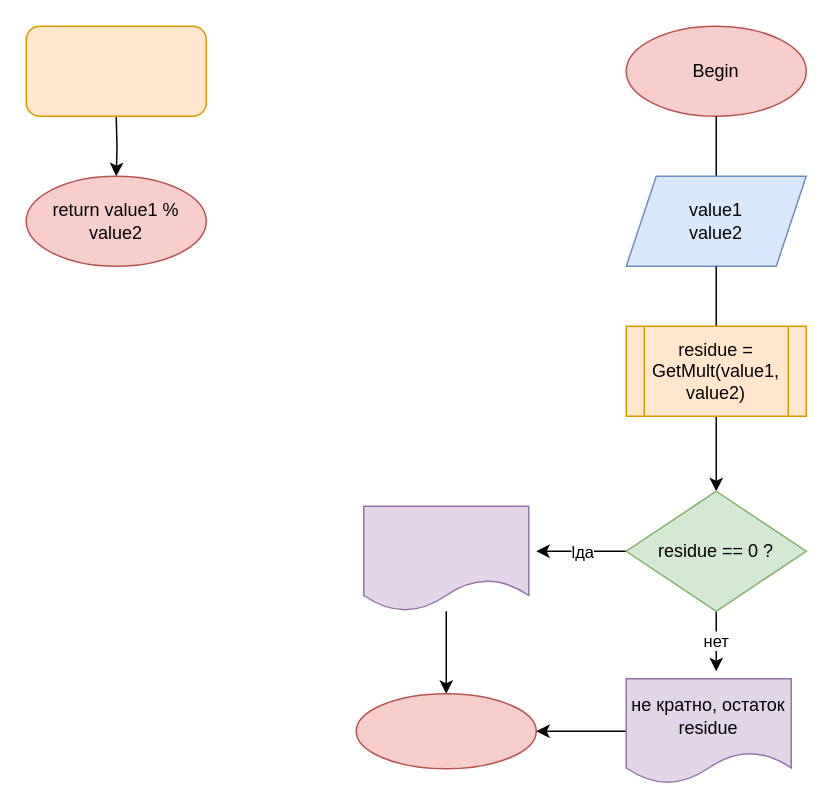
Some shapes in this 833 by 810 pixel diagram are drawn without their labels. The centre of each missing label's shape, as x and y in pixels:
End: the point at 445,730
GetMult (value1,value2): the point at 115,70
кратно: the point at 445,558
